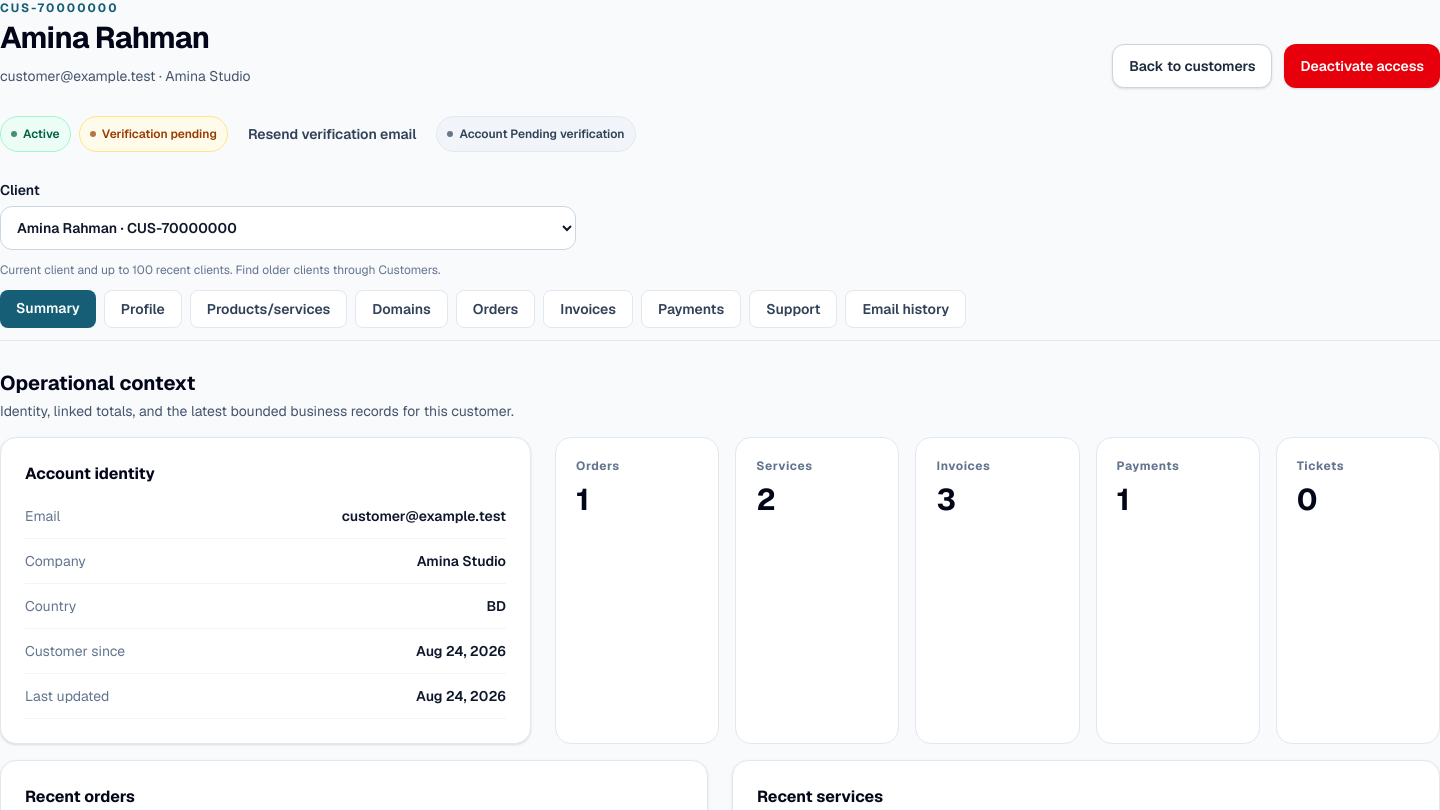
Test: customer management interfaces › retains the resend request key after a lost response so retries cannot duplicate email
Step 1. Click the button "Resend verification email" → (332, 134), box [236,116,428,152]
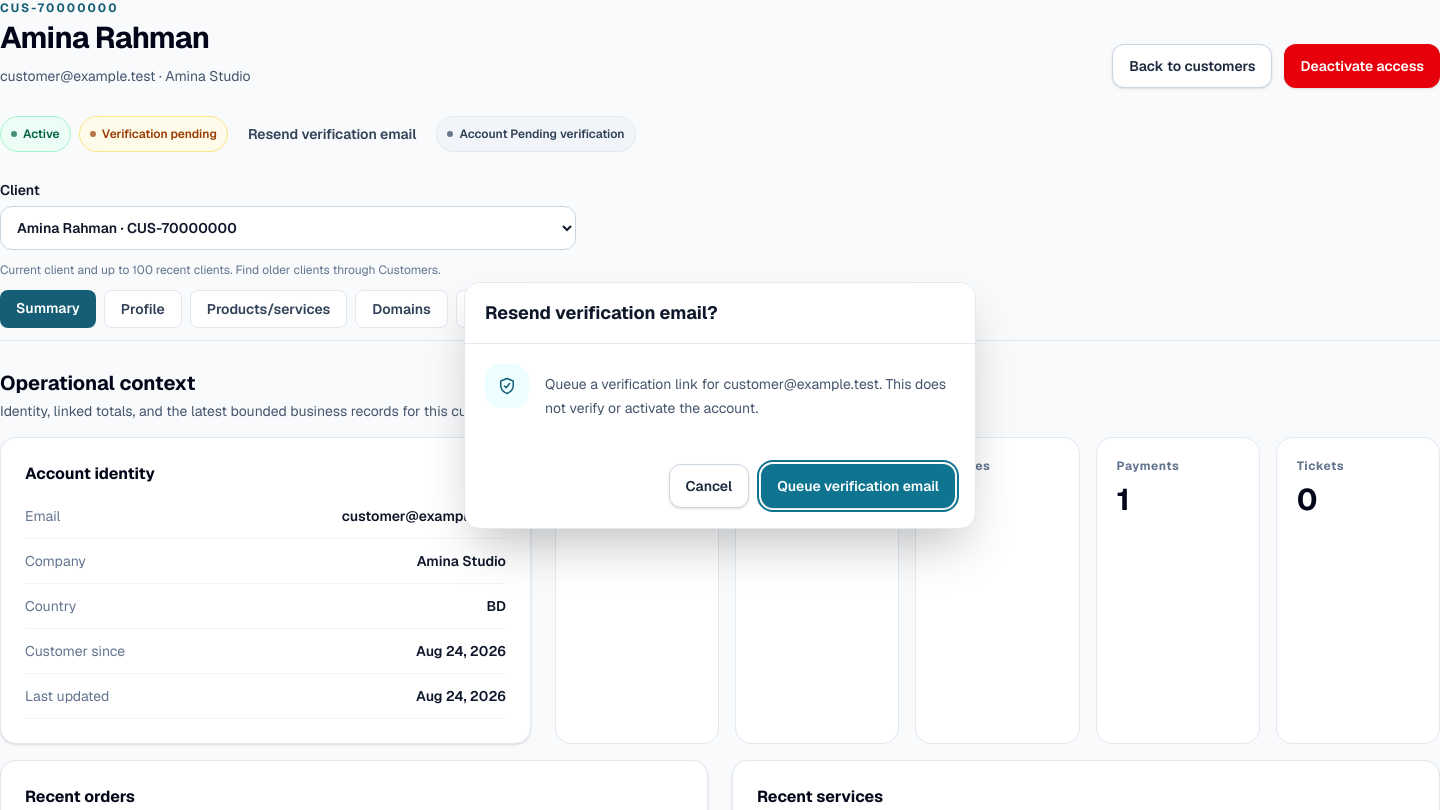
Step 2. Click the button "Queue verification email" → (858, 486), box [761,464,955,508]
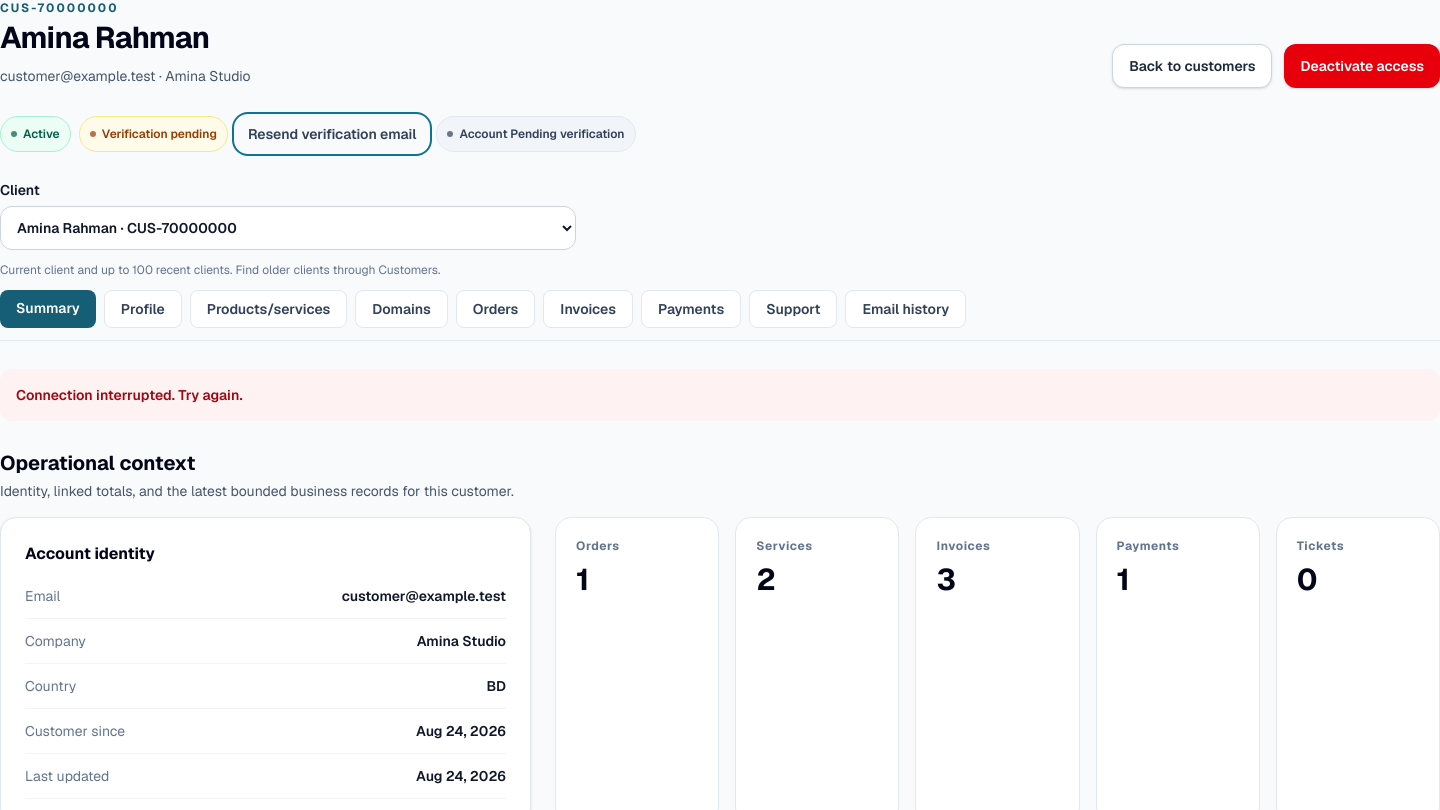
Expected: the message shows "Connection interrupted", [16,386,242,404]
Step 3. Click the button "Resend verification email" → (332, 134), box [236,116,428,152]
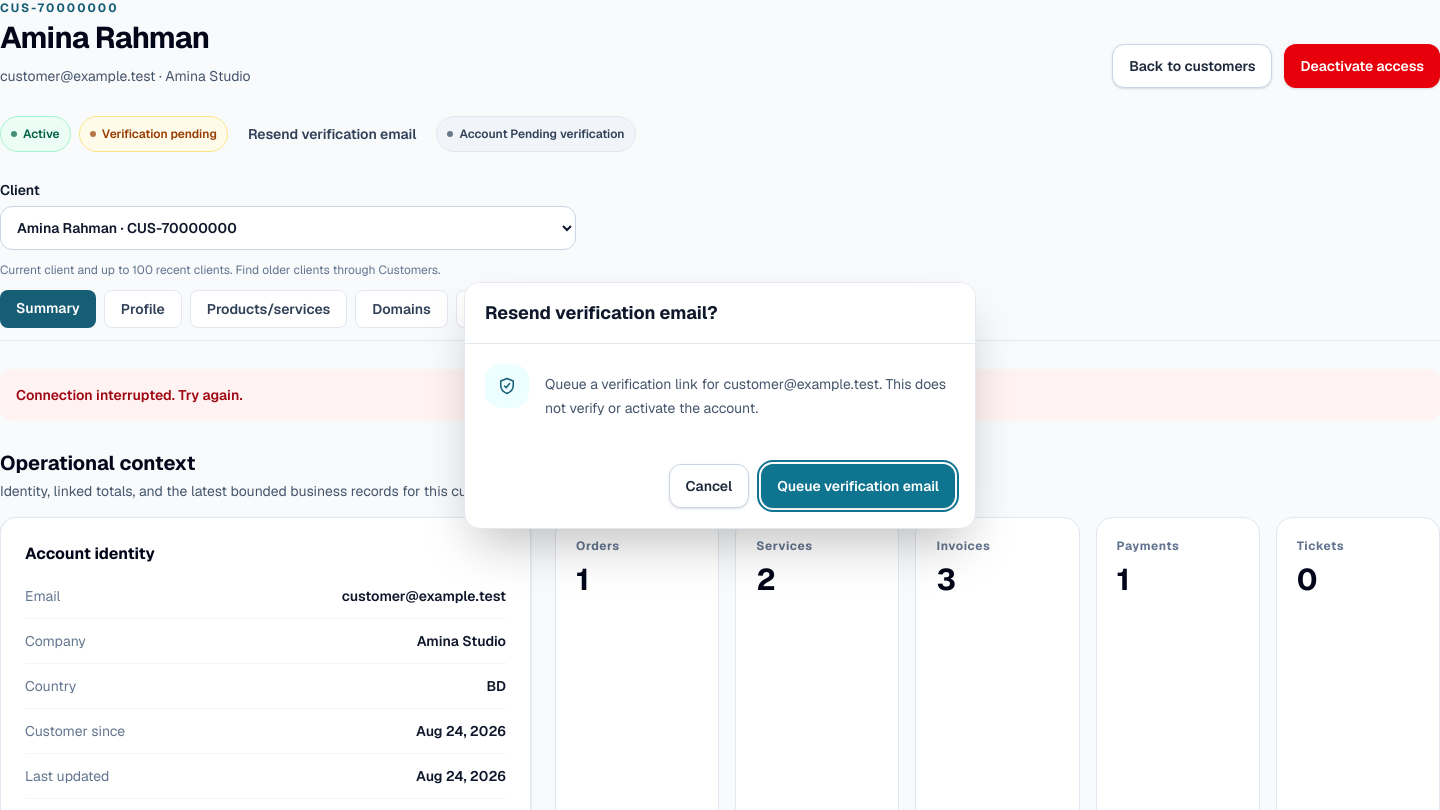
Step 4. Click the button "Queue verification email" → (858, 486), box [761,464,955,508]
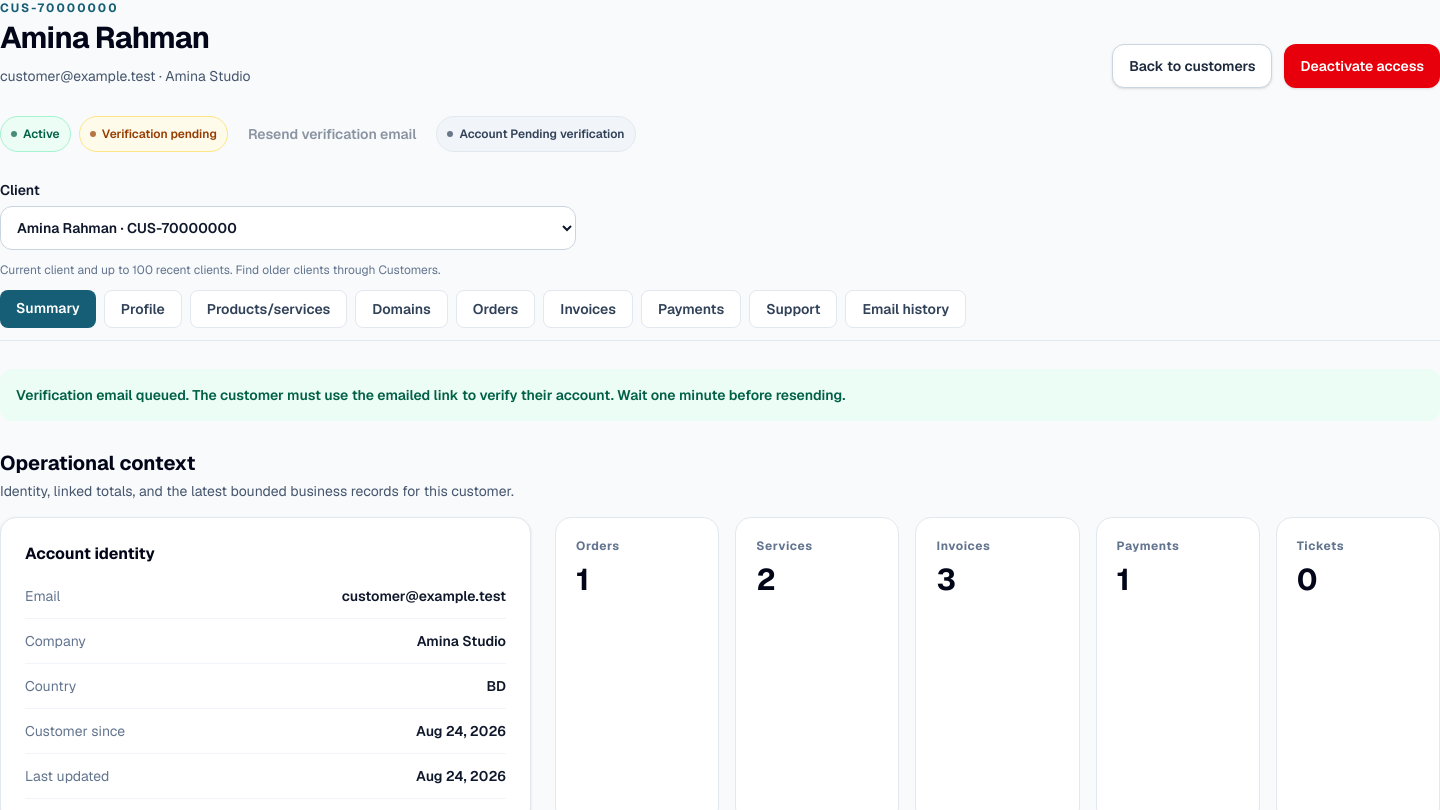
Expected: the message is shown, [0,369,1439,421]
